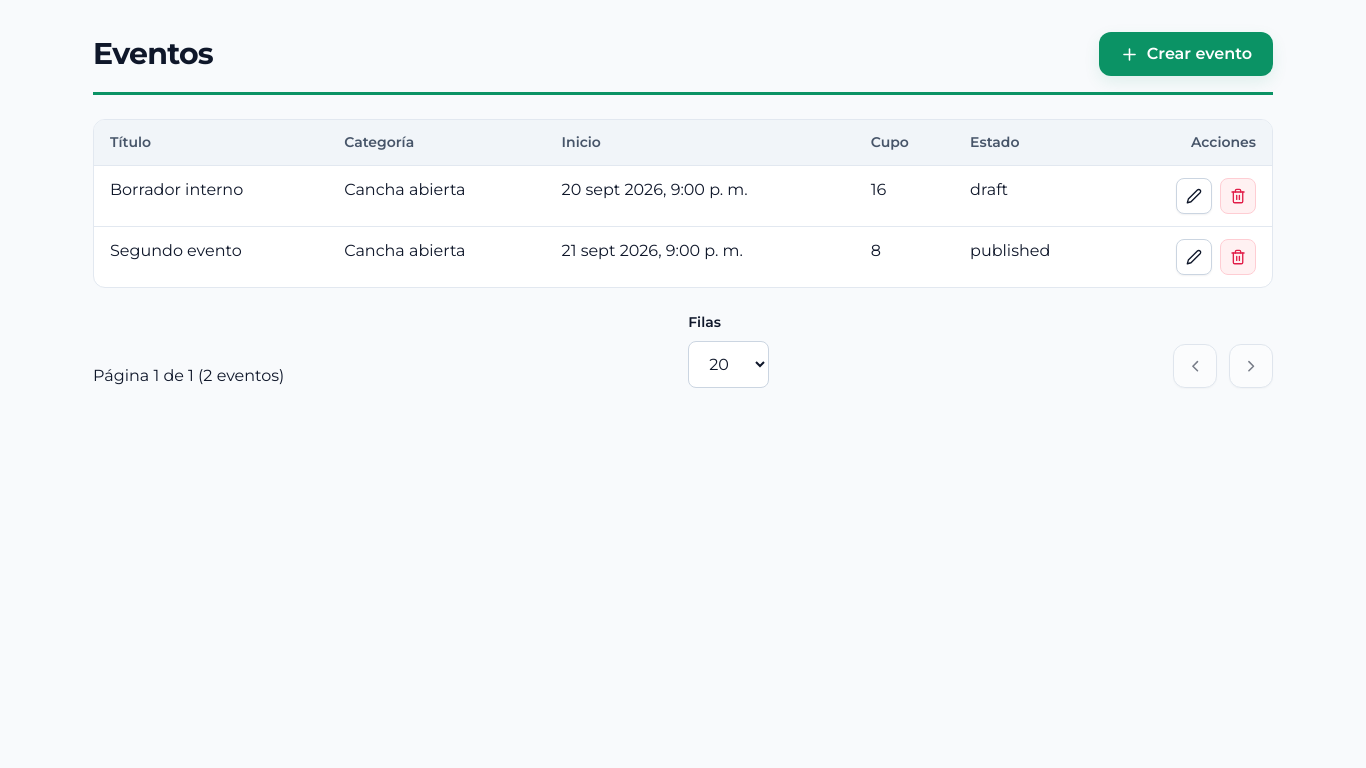
Test: EventsList › ignores a late roster response after closing and opening another event
The image size is (1366, 768).
Click the button named "Ver/editar" in the row of "Borrador interno". click: (1194, 196)
box: [1176,178,1212,214]
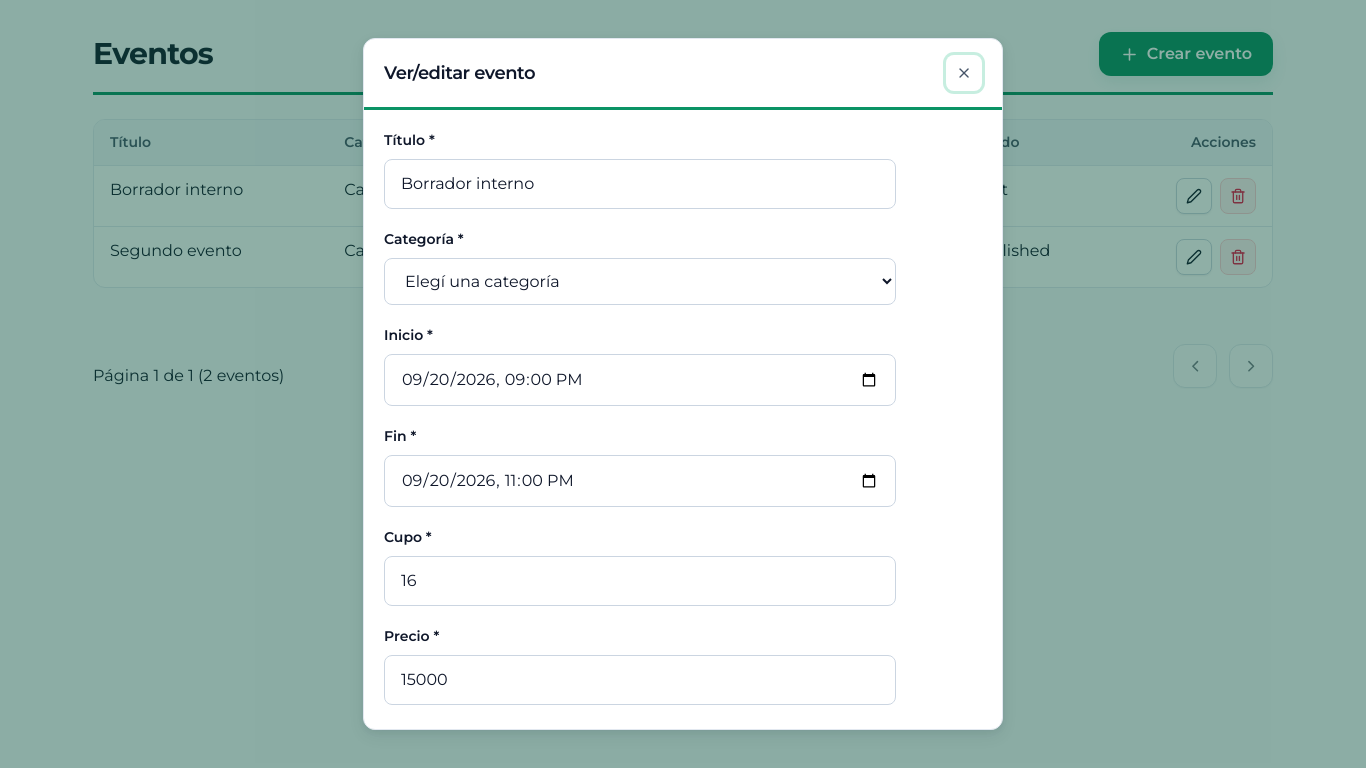
Check: the dialog "Ver/editar evento" is shown, box [363,38,1003,730]
Press Escape
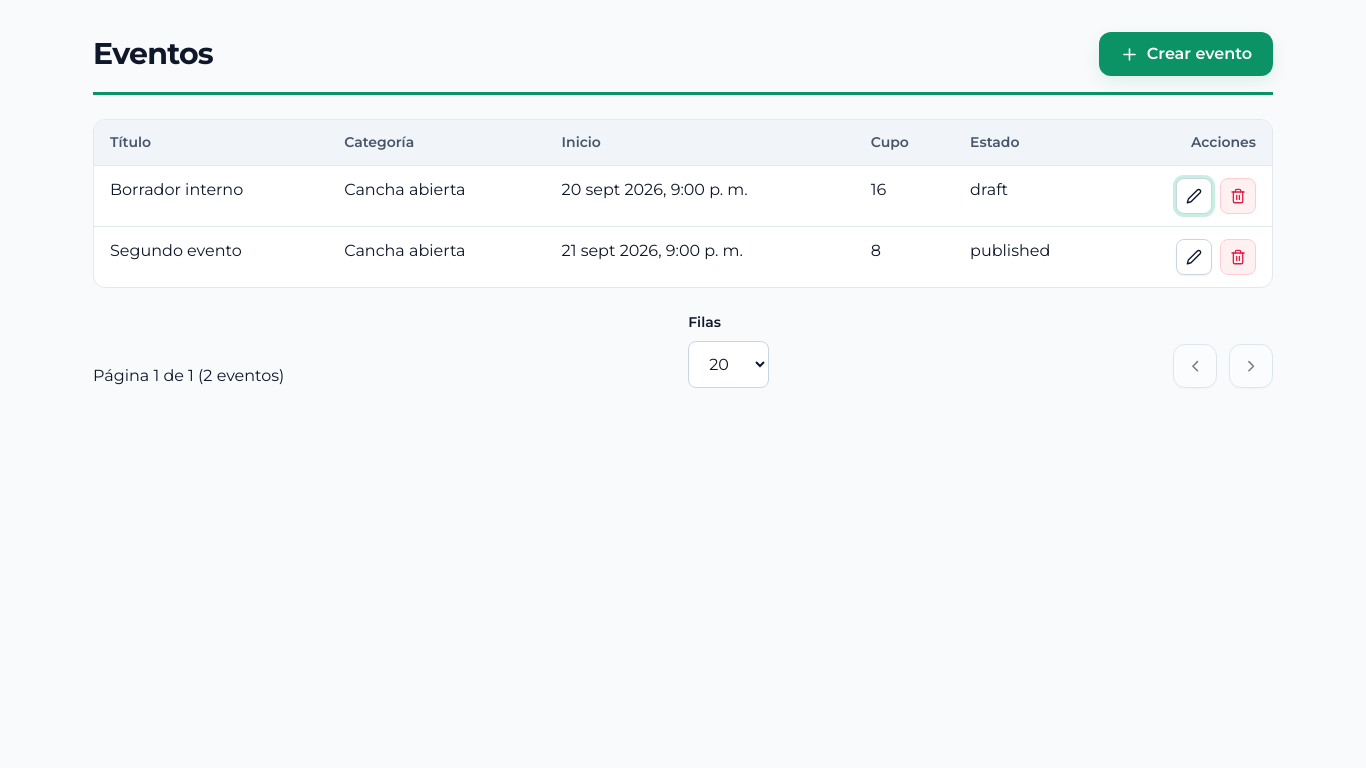
Click the button named "Ver/editar" in the row of "Segundo evento". click: (1194, 257)
box: [1176,239,1212,275]
(page scrolled)
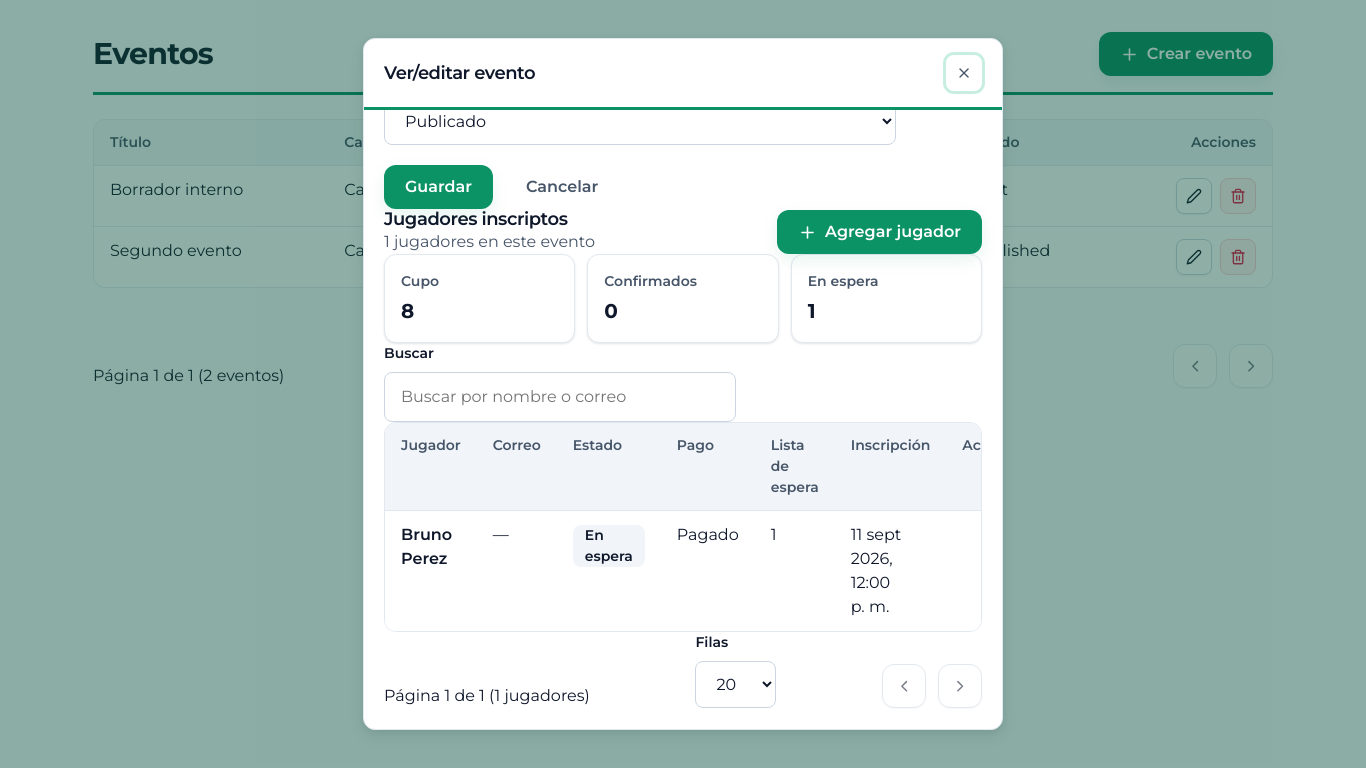
Check: the text "Bruno Perez" is shown, box [401,525,452,568]
